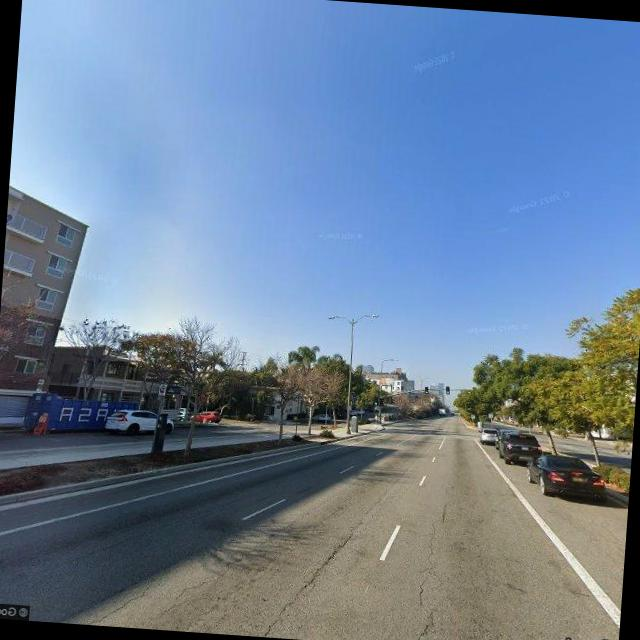pothole: (253, 515, 361, 640), (405, 504, 450, 640), (162, 548, 246, 619), (70, 578, 156, 628)
